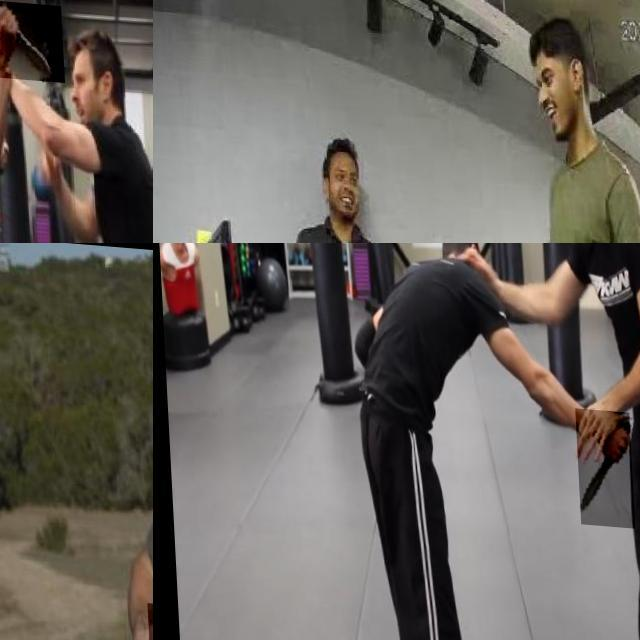-: (572, 401, 630, 521), (0, 0, 63, 76)
